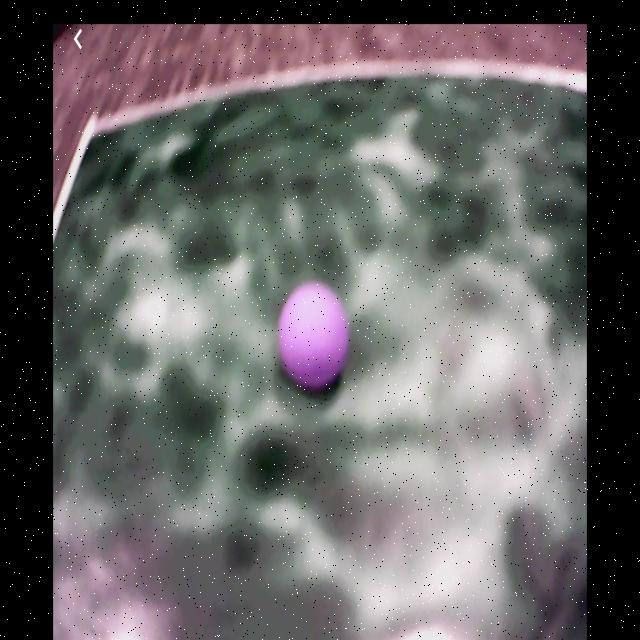ball: (278, 280, 348, 392)
